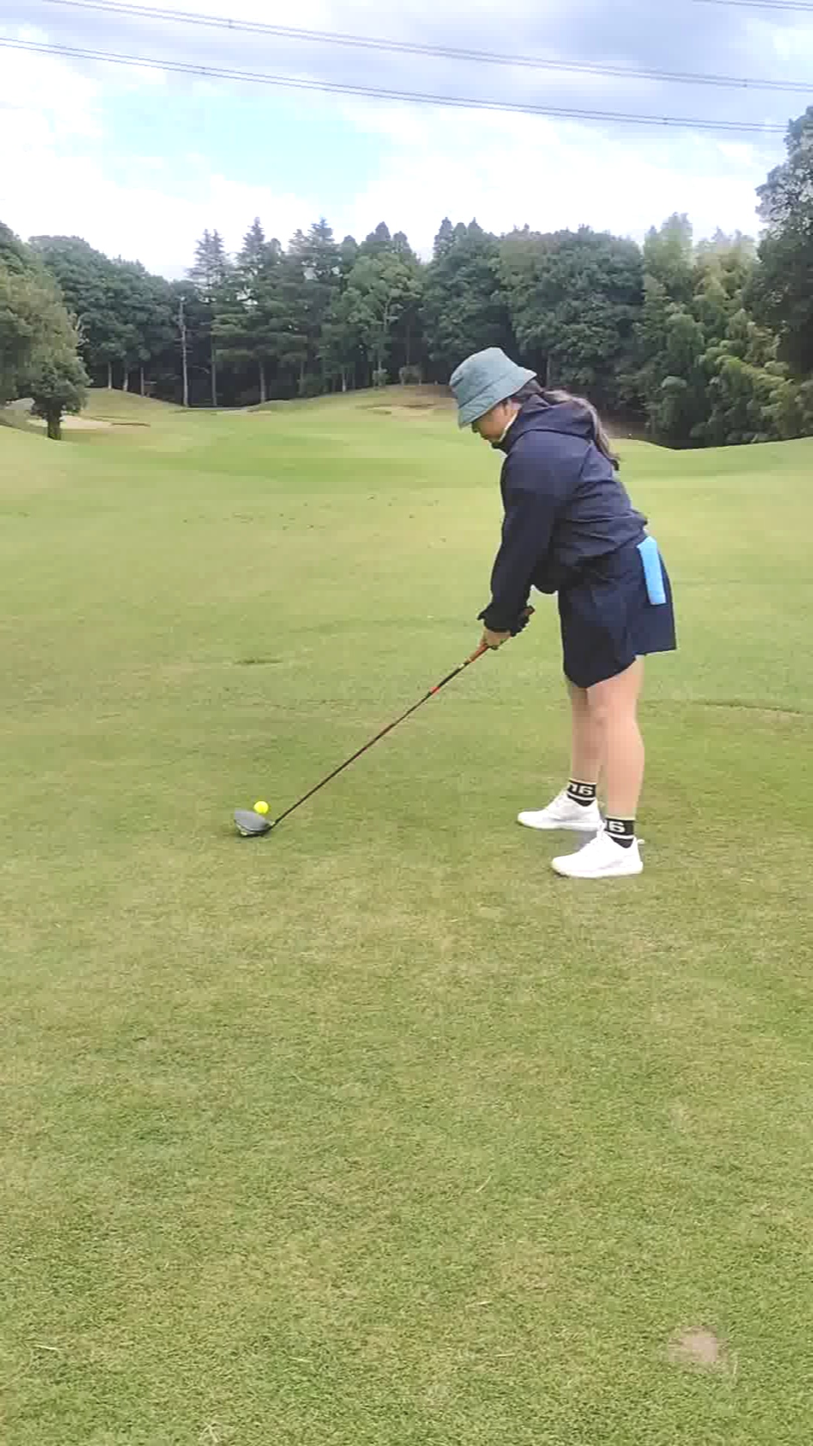clubhead: (177, 744, 334, 879)
